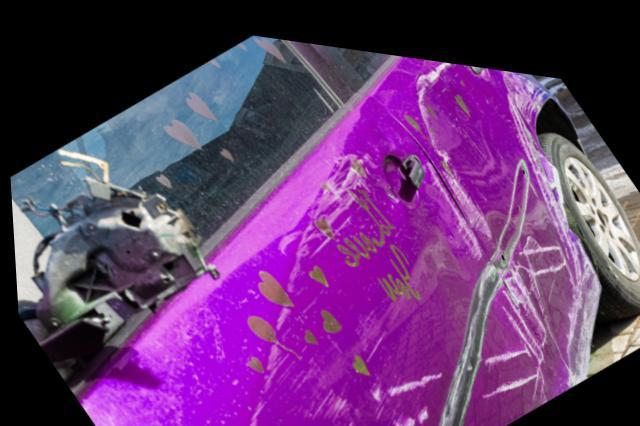scratch: (235, 142, 438, 426), (498, 58, 599, 366), (449, 247, 569, 396), (414, 48, 491, 227), (425, 147, 481, 247)
